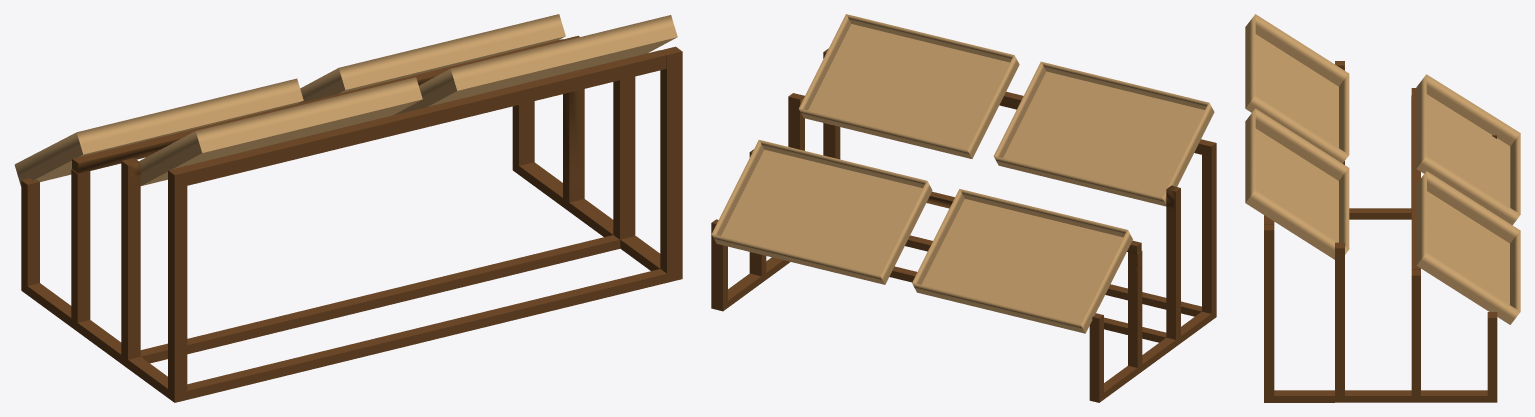
File: Rak Makanan 1.fbx
The picture shows the model from 3 angles, left to right: view 1: azimuth 30°, elevation 25°; view 2: azimuth 150°, elevation 25°; view 3: azimuth 270°, elevation 25°; orthographic projection. The views are drawn at different scales.
Visible parts, largest first — view 1: Cube, Cube.001, Cube.002, Cube.004, Cube.003; view 2: Cube.002, Cube.003, Cube.004, Cube.001, Cube; view 3: Cube.003, Cube, Cube.002, Cube.004, Cube.001.
Boxes of the visible parts, x1=… form: Cube: x1=21, y1=35, x2=682, y2=402; Cube.001: x1=139, y1=77, x2=422, y2=185; Cube.002: x1=393, y1=15, x2=677, y2=115; Cube.004: x1=14, y1=78, x2=303, y2=186; Cube.003: x1=299, y1=14, x2=565, y2=103; Cube.002: x1=798, y1=14, x2=1019, y2=158; Cube.003: x1=711, y1=140, x2=932, y2=284; Cube.004: x1=912, y1=189, x2=1132, y2=333; Cube.001: x1=993, y1=61, x2=1214, y2=206; Cube: x1=711, y1=48, x2=1216, y2=402; Cube.003: x1=1416, y1=171, x2=1520, y2=324; Cube: x1=1264, y1=61, x2=1497, y2=402; Cube.002: x1=1245, y1=108, x2=1349, y2=259; Cube.004: x1=1416, y1=74, x2=1520, y2=224; Cube.001: x1=1245, y1=14, x2=1349, y2=163.
Bounding box in the file's own units: 1101 × 565 × 682.
